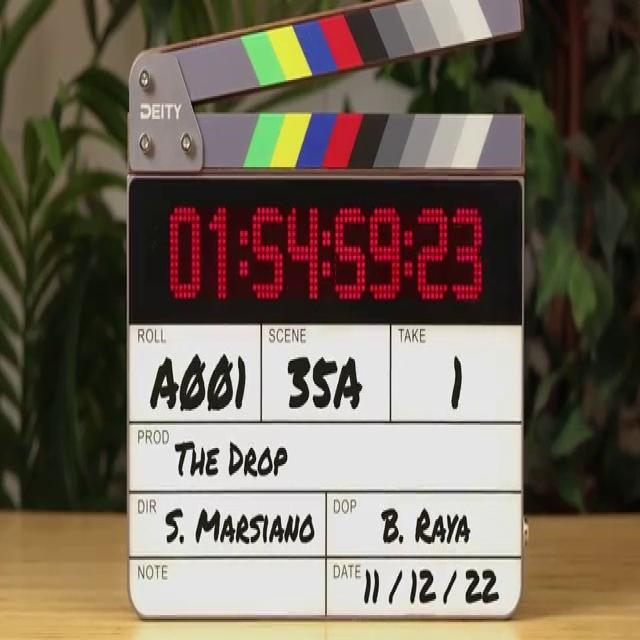Clapperboard: (128, 0, 535, 626)
